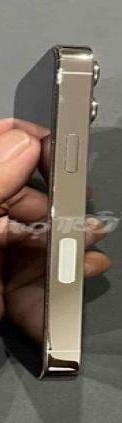scratch: (40, 53, 94, 101)
